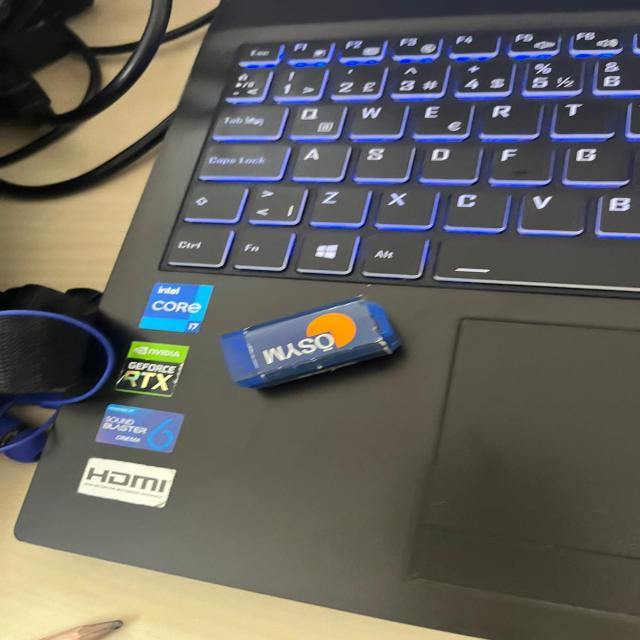eraser: (202, 292, 404, 407)
